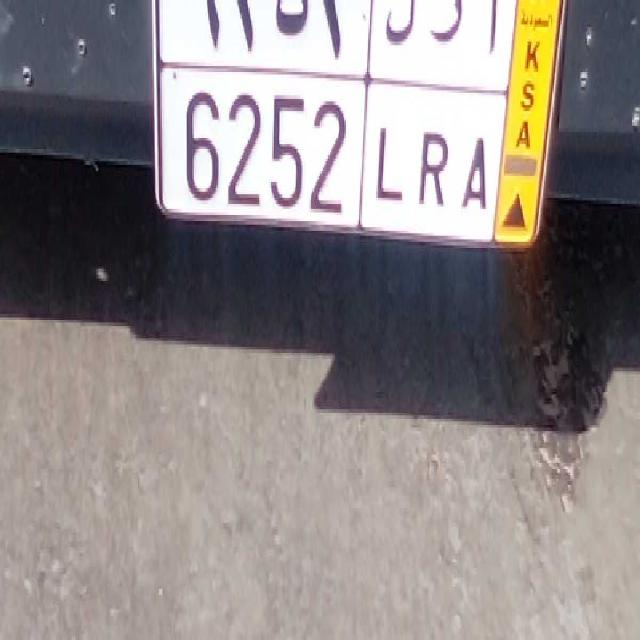license_plate: (175, 69, 490, 263)
